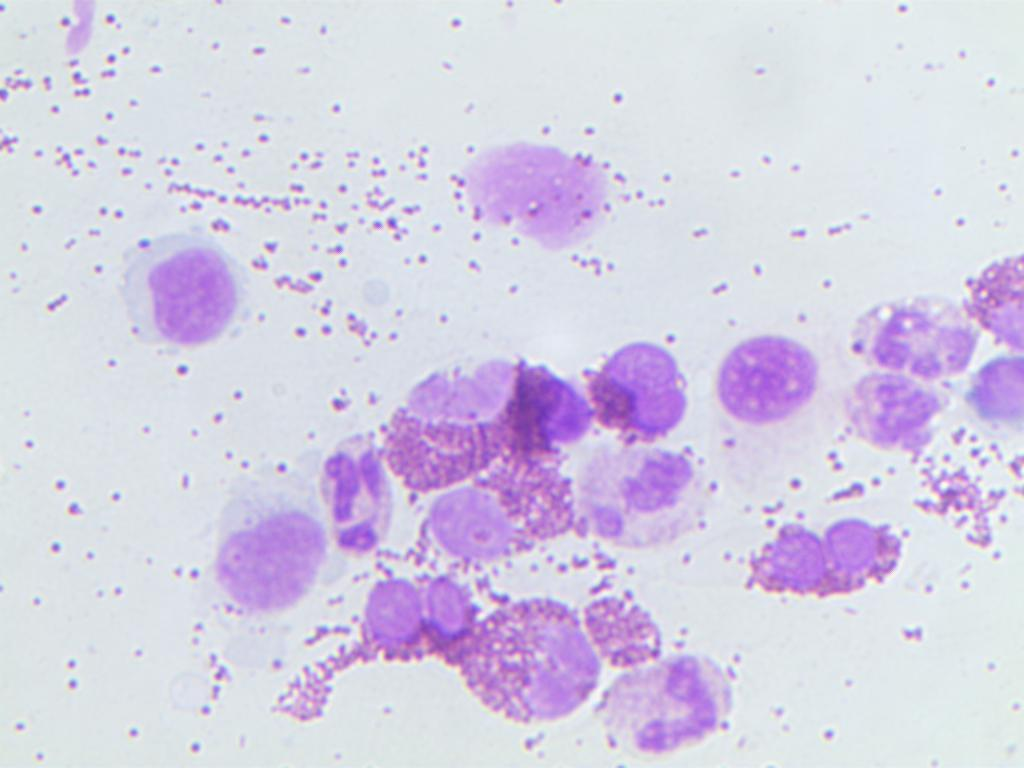artifact: (446, 122, 620, 267)
eosinophil: (390, 340, 523, 490), (750, 495, 907, 615), (577, 325, 711, 446), (464, 602, 598, 723), (421, 466, 575, 562), (345, 564, 469, 676), (467, 350, 587, 452), (586, 564, 681, 677), (960, 239, 1024, 362)
epithelial: (697, 301, 829, 435)
lymphocyte: (118, 208, 260, 374), (183, 467, 325, 633)
neutrophil: (572, 438, 718, 551), (587, 648, 733, 761), (847, 288, 986, 392), (325, 442, 394, 566), (846, 370, 937, 452)
